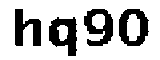0: (118, 9, 149, 52)
9: (81, 5, 114, 52)
h: (8, 7, 43, 52)
q: (47, 17, 81, 60)
